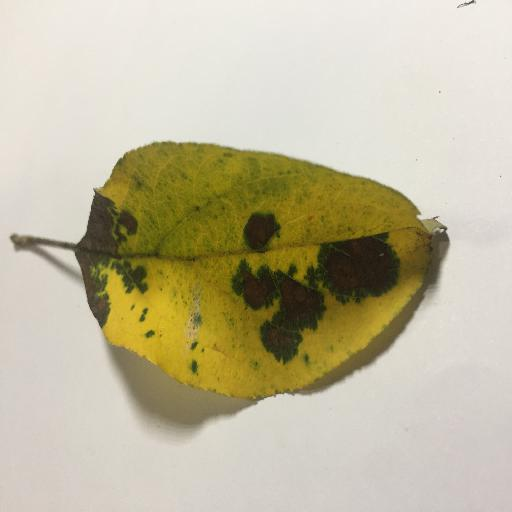Brown_Spot: (316, 238, 388, 294), (261, 287, 321, 349), (78, 257, 106, 319), (74, 224, 139, 249), (237, 271, 265, 297), (247, 217, 273, 239)
